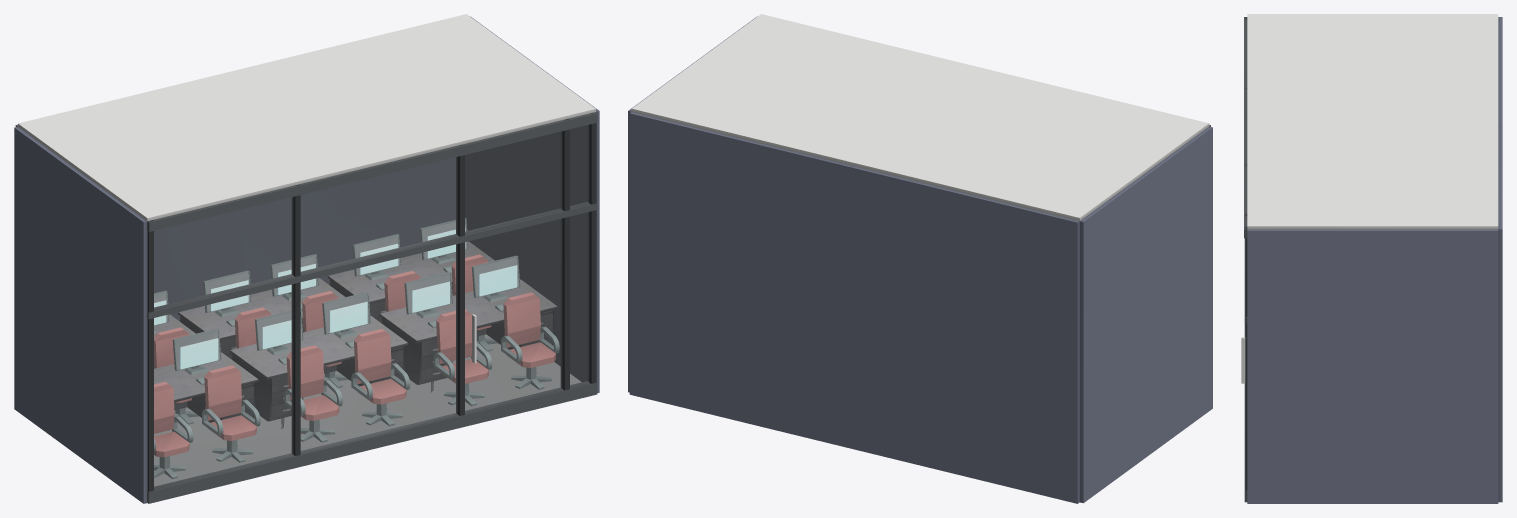
Rendered from shop_pcbang.glb.
The picture shows the model from 3 angles, left to right: view 1: azimuth 30°, elevation 25°; view 2: azimuth 150°, elevation 25°; view 3: azimuth 270°, elevation 25°; orthographic projection. The views are drawn at different scales.
Parts seen in each view (by area): view 1: body; view 2: body; view 3: body.
Part boxes in pixels (bbox=[...]): body: bbox=[14, 14, 599, 503]; body: bbox=[628, 14, 1212, 503]; body: bbox=[1241, 14, 1502, 503].
Size of the model in its own units: 6.1 by 3.64 by 3.12.
13 materials, 6 textured.
